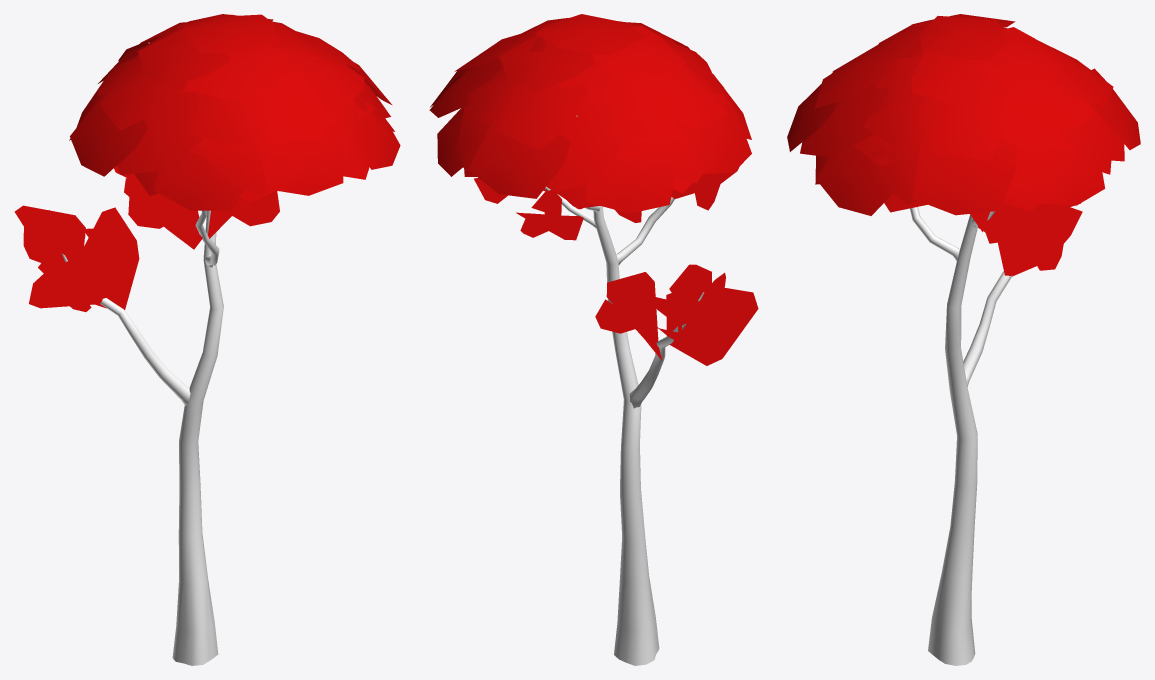
The model's file is SM_tree_07.FBX.
3 views of the same model, side by side, from view 1: azimuth 30°, elevation 25°; view 2: azimuth 150°, elevation 25°; view 3: azimuth 270°, elevation 25° (orthographic). The views are drawn at different scales.
Parts seen in each view (by area): view 1: SM_tree_07_LOD0; view 2: SM_tree_07_LOD0; view 3: SM_tree_07_LOD0.
Part boxes in pixels (x1,y1,x2,y2): SM_tree_07_LOD0: (14,14,400,665); SM_tree_07_LOD0: (429,14,758,665); SM_tree_07_LOD0: (787,14,1140,665).
Size of what is drawn, in the model's own units: 526 by 468 by 949.
